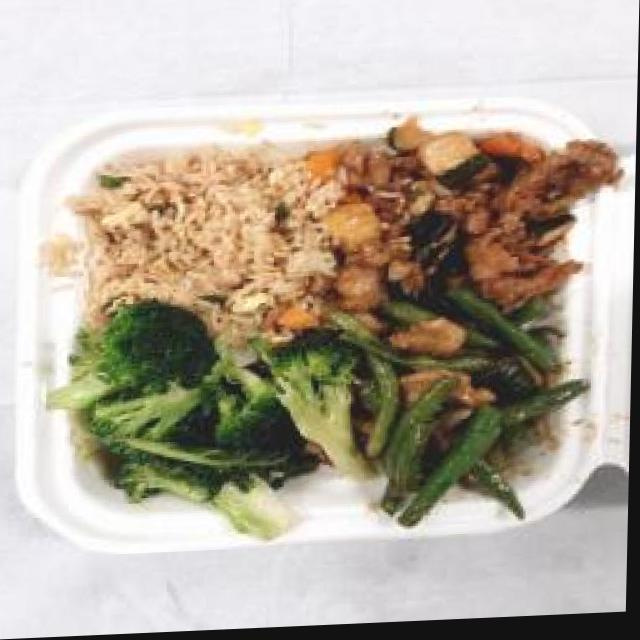Fried Rice: (72, 143, 330, 327)
Kung Pao Chicken: (317, 122, 596, 317)
String Bean Chicken Breast: (334, 288, 581, 511)
Super Greens: (58, 306, 329, 536)
